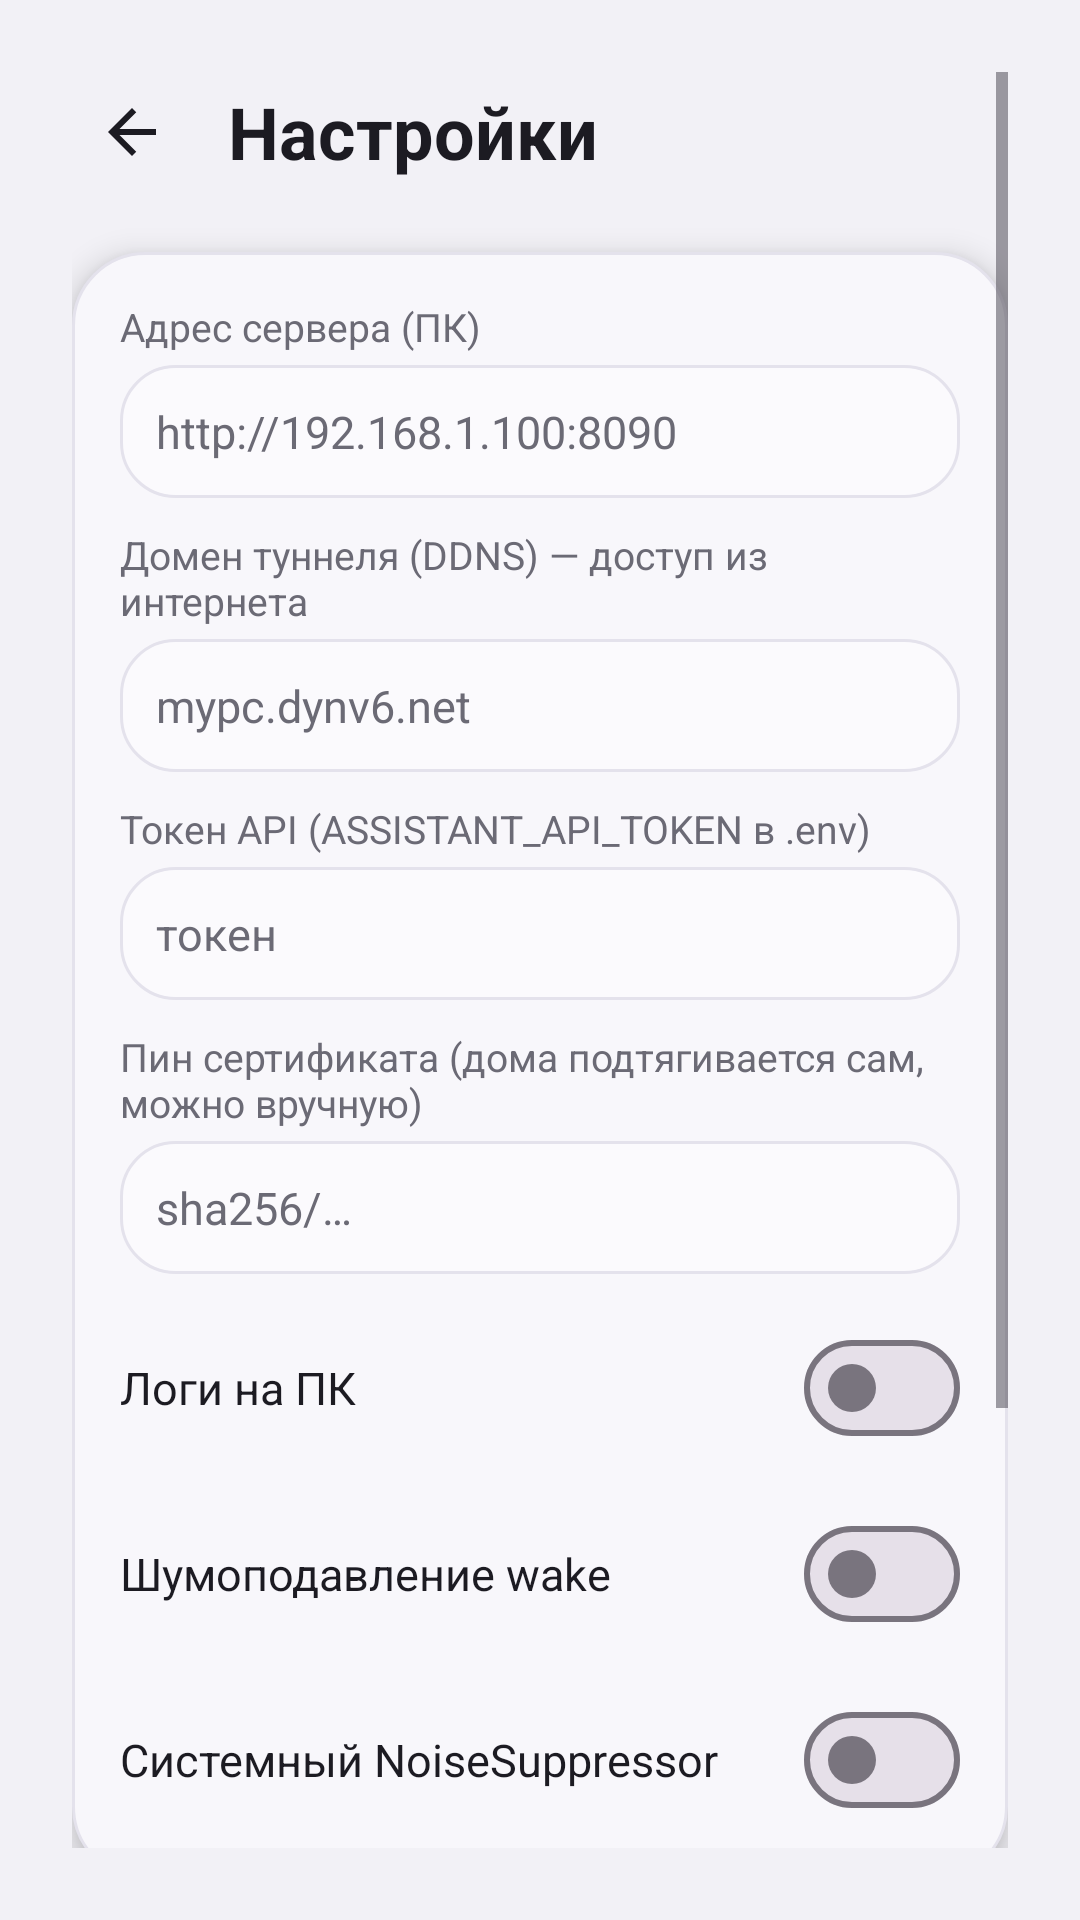

Named icons in this screenshot (1080px×1920px) and their centers, [x,y]:
Назад: [132,132]
